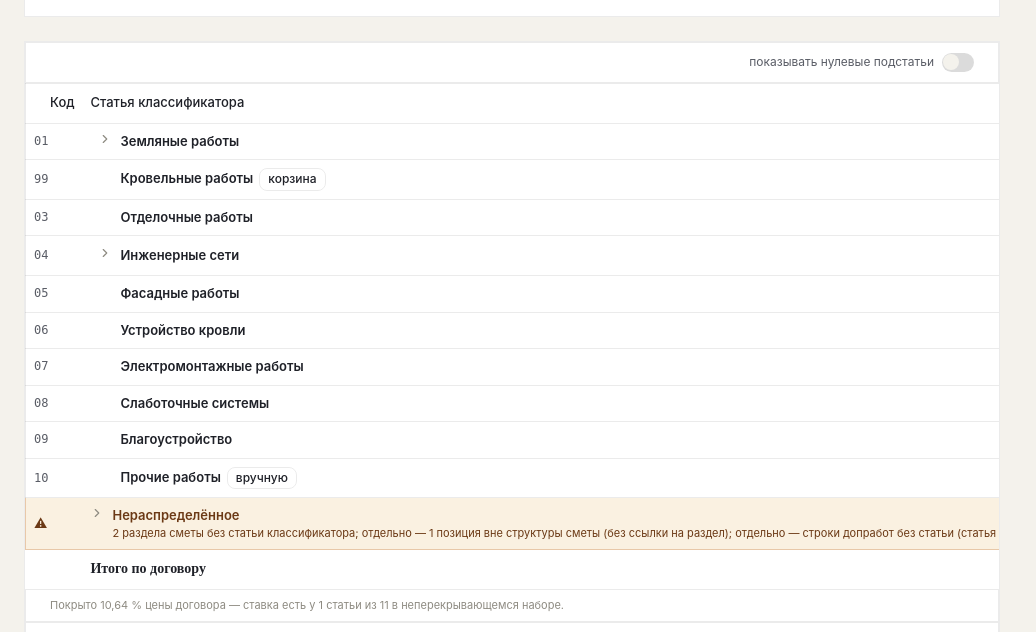
Test: Паспорт проекта: таблица по статьям › «Без подстатьи» есть, когда у статьи есть дети и свои деньги
(page scrolled)
Click the button named "Развернуть статью 04" at (106, 253), box x1=98 y1=246 x2=112 y2=260
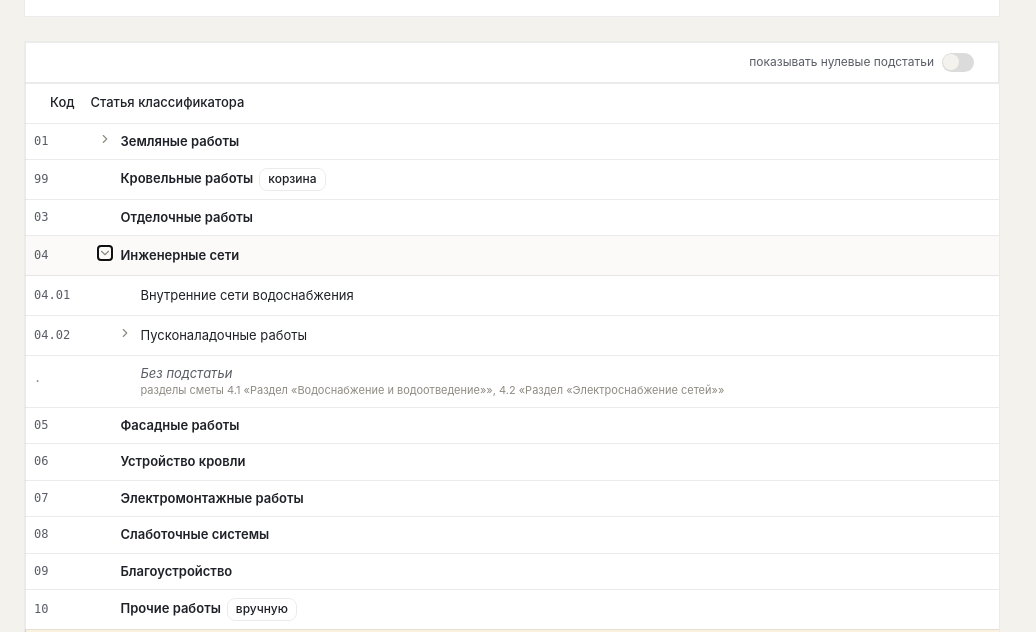
Check: the text "Без подстатьи" is shown, box x1=140 y1=365 x2=232 y2=381
